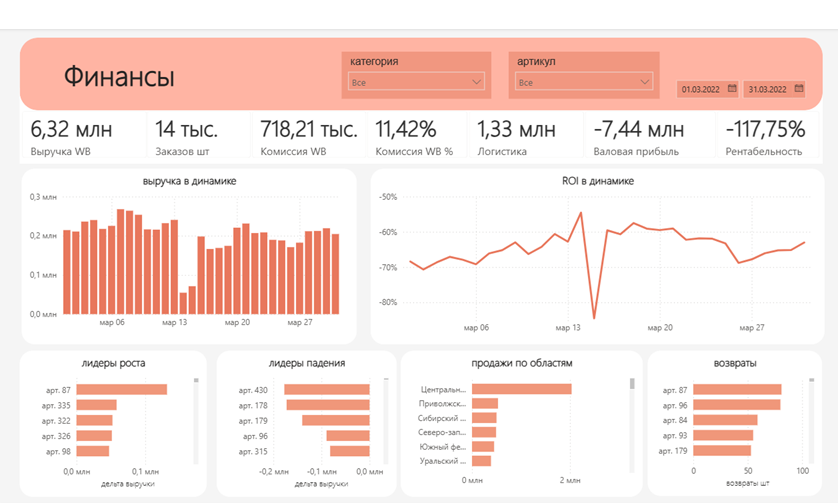

The dashboard page shown, as its layout file describes it:
{"tool":"powerbi","page":{"name":"Страница 1","canvas":[1280,720],"ordinal":0},"visuals":[{"type":"shape","box":[31.8,90.9,1215.9,115.1],"z":0},{"type":"cardVisual","fields":{"Data":["DimCost.Выручка WB"]},"box":[18.8,108.8,223.8,105],"z":1000},{"type":"group","id":"g1","title":"Группа 4","box":[31.8,15.6,1215.9,109],"z":2000},{"type":"cardVisual","fields":{"Data":["DimCost.Заказов шт"]},"box":[208.1,109.4,191.9,105],"z":3000},{"type":"cardVisual","fields":{"Data":["DimCost.Рентабельность"]},"box":[1070.8,109.2,189.2,105],"z":4000},{"type":"cardVisual","fields":{"Data":["DimCost.Валовая прибыль"]},"box":[870.8,109.2,232.3,105.4],"z":5000},{"type":"shape","box":[31.8,15.6,1216,110],"z":6000,"group":"g1"},{"type":"cardVisual","fields":{"Data":["DimCost.Логистика"]},"box":[694.4,109.4,208.1,105],"z":6000},{"type":"cardVisual","fields":{"Data":["DimCost.Комиссия WB %"]},"box":[540.7,108.7,186.2,105],"z":7000},{"type":"cardVisual","fields":{"Data":["DimCost.Комиссия WB"]},"box":[366.9,109.4,207.5,105],"z":8000},{"type":"textbox","box":[94.5,36.9,440,82],"z":9000,"group":"g1"},{"type":"clusteredColumnChart","title":"выручка в динамике","fields":{"Y":["DimCost.Выручка WB"],"Category":["DimDate.Date"]},"box":[35,213.8,507.5,266.2],"z":9000},{"type":"lineChart","title":"ROI в динамике","fields":{"Y":["DimCost.ROI"],"Category":["DimDate.Date"]},"box":[563.8,213.8,687.5,266.2],"z":10000},{"type":"clusteredBarChart","title":"лидеры роста","fields":{"Y":["DimCost.Дельта выручки"],"Category":["DimProduct.Артикул"]},"box":[31.8,489.1,283.2,221.1],"z":11000},{"type":"slicer","fields":{"Values":["DimDate.Date"]},"box":[1013,69.7,218,42.4],"z":12000},{"type":"clusteredBarChart","title":"лидеры падения","fields":{"Y":["DimCost.Дельта выручки"],"Category":["DimProduct.Артикул"]},"box":[330.1,489.1,272.6,221.1],"z":13000},{"type":"slicer","fields":{"Values":["DimProduct.Артикул"]},"box":[772.2,36.3,228.6,71.2],"z":14000},{"type":"slicer","fields":{"Values":["DimProduct.Категория"]},"box":[519.3,35.8,227,71.5],"z":15000},{"type":"clusteredBarChart","title":"продажи по областям","fields":{"Category":["FactSales.oblast"],"Y":["DimCost.Продажи по областям"]},"box":[609.2,489.1,366.4,221.1],"z":16000},{"type":"clusteredBarChart","title":"возвраты","fields":{"Y":["DimCost.Возвраты шт"],"Category":["DimProduct.Артикул"]},"box":[983,489.8,264,220],"z":17000}]}

Visuals, with their boxes on the page's 1280x720 design canvas (x1, y1, x2, y2). These are canvas units, not pixel positions in the 838x503 screenshot, which may show the page scaled, cropped or inside an application window:
shape: BBox(32, 91, 1248, 206)
cardVisual - DimCost.Выручка WB: BBox(19, 109, 243, 214)
"Группа 4" group: BBox(32, 16, 1248, 125)
cardVisual - DimCost.Заказов шт: BBox(208, 109, 400, 214)
cardVisual - DimCost.Рентабельность: BBox(1071, 109, 1260, 214)
cardVisual - DimCost.Валовая прибыль: BBox(871, 109, 1103, 215)
shape: BBox(32, 16, 1248, 126)
cardVisual - DimCost.Логистика: BBox(694, 109, 902, 214)
cardVisual - DimCost.Комиссия WB %: BBox(541, 109, 727, 214)
cardVisual - DimCost.Комиссия WB: BBox(367, 109, 574, 214)
textbox: BBox(94, 37, 534, 119)
"выручка в динамике" clusteredColumnChart: BBox(35, 214, 542, 480)
"ROI в динамике" lineChart: BBox(564, 214, 1251, 480)
"лидеры роста" clusteredBarChart: BBox(32, 489, 315, 710)
slicer - DimDate.Date: BBox(1013, 70, 1231, 112)
"лидеры падения" clusteredBarChart: BBox(330, 489, 603, 710)
slicer - DimProduct.Артикул: BBox(772, 36, 1001, 108)
slicer - DimProduct.Категория: BBox(519, 36, 746, 107)
"продажи по областям" clusteredBarChart: BBox(609, 489, 976, 710)
"возвраты" clusteredBarChart: BBox(983, 490, 1247, 710)
